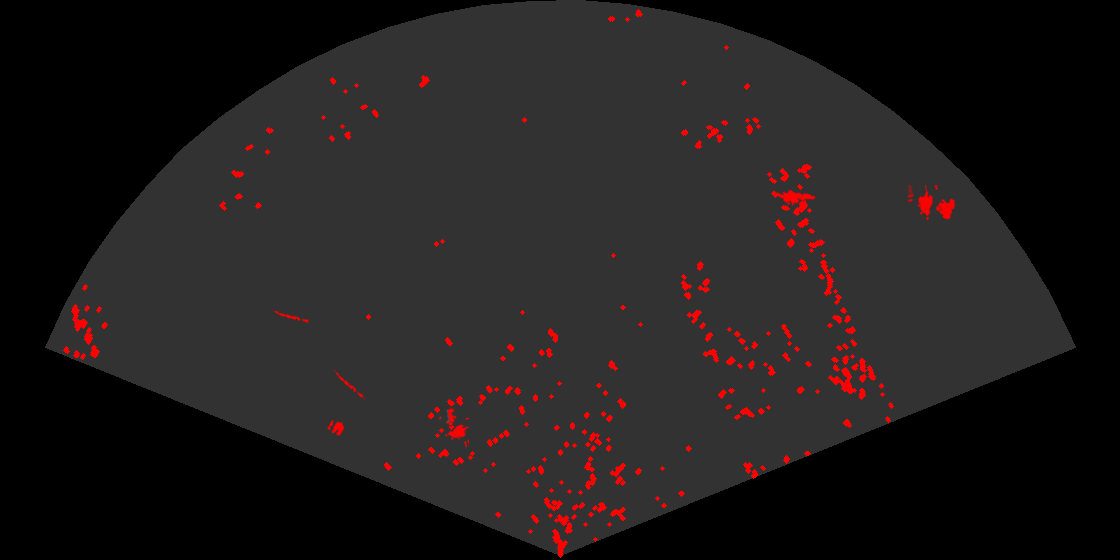ball: (326, 418, 346, 437)
cage: (908, 185, 957, 222), (437, 406, 469, 447)
chain: (331, 369, 365, 402), (271, 308, 309, 325)
frogman: (777, 188, 817, 207)
